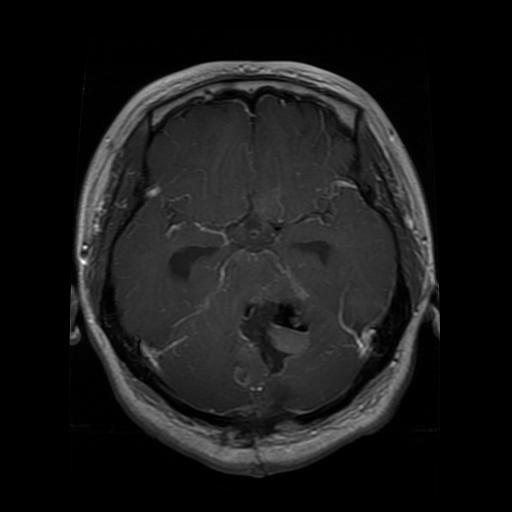Tumour-Glioma: (233, 296, 320, 385)
